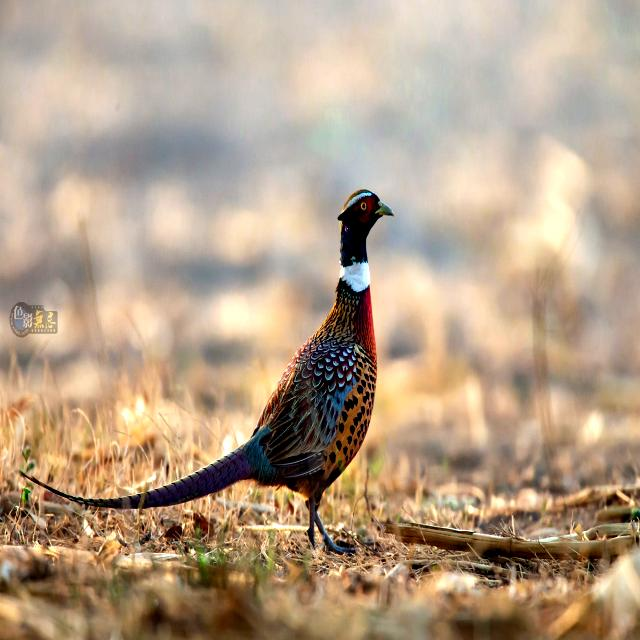Phasianus Colchicus: (22, 437, 259, 510)
